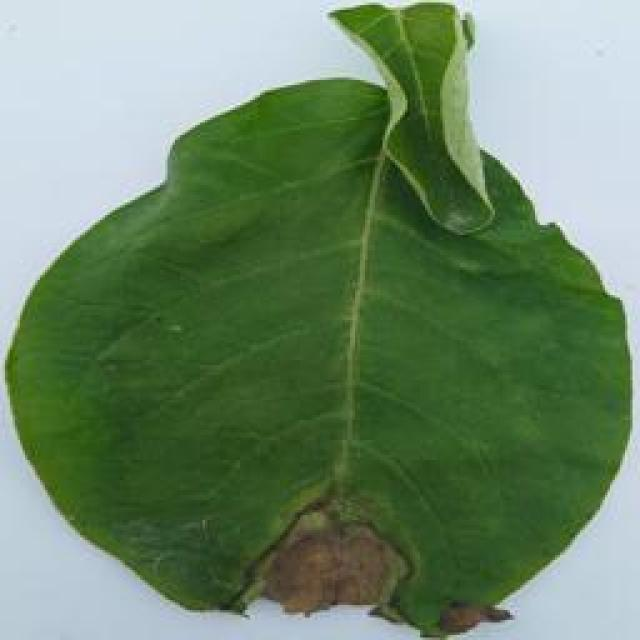Potato_Late_Blight: (5, 13, 617, 633)
